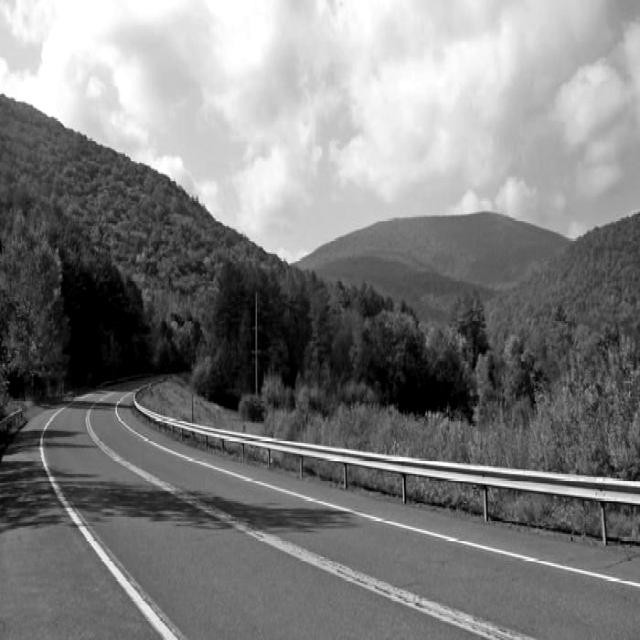cleat: (10, 332, 582, 640)
